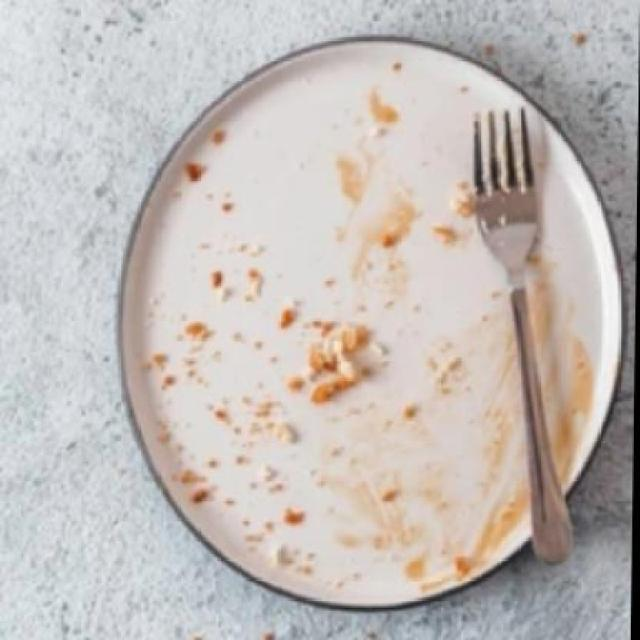Plate: (109, 37, 633, 615)
